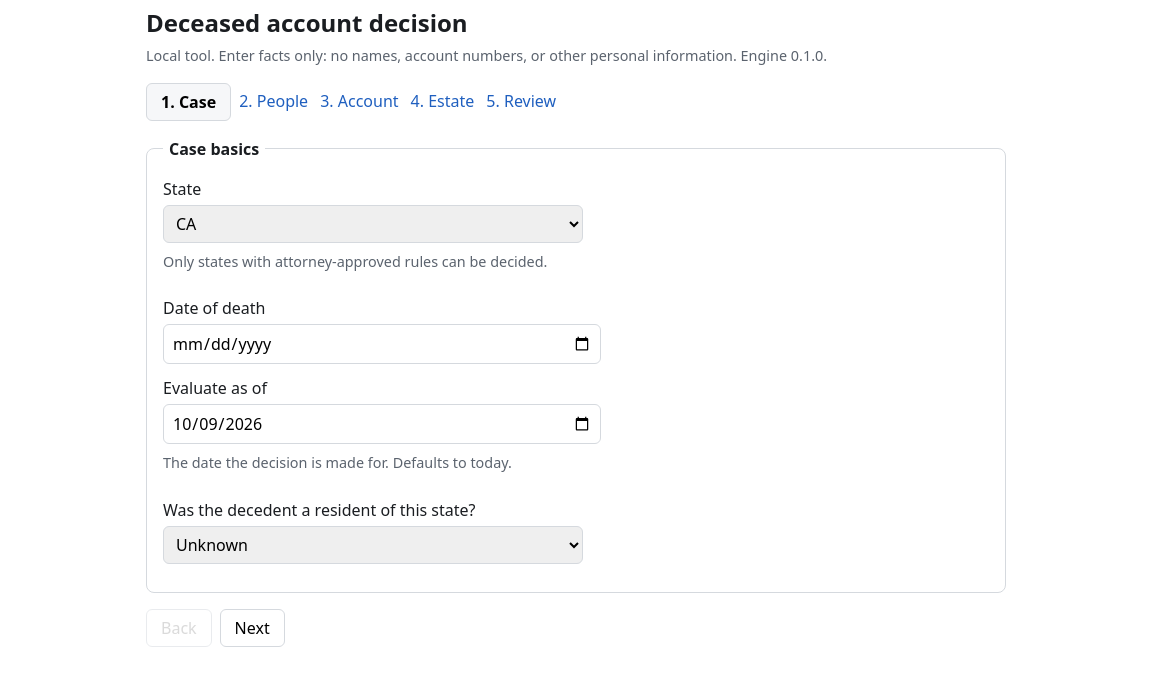
Test case: unknown policy and unreachable service are explained
What coordinates should you click on to do the following:
click the button "5. Review"
I would click on:
 (521, 101)
Its box is [482, 83, 560, 119].
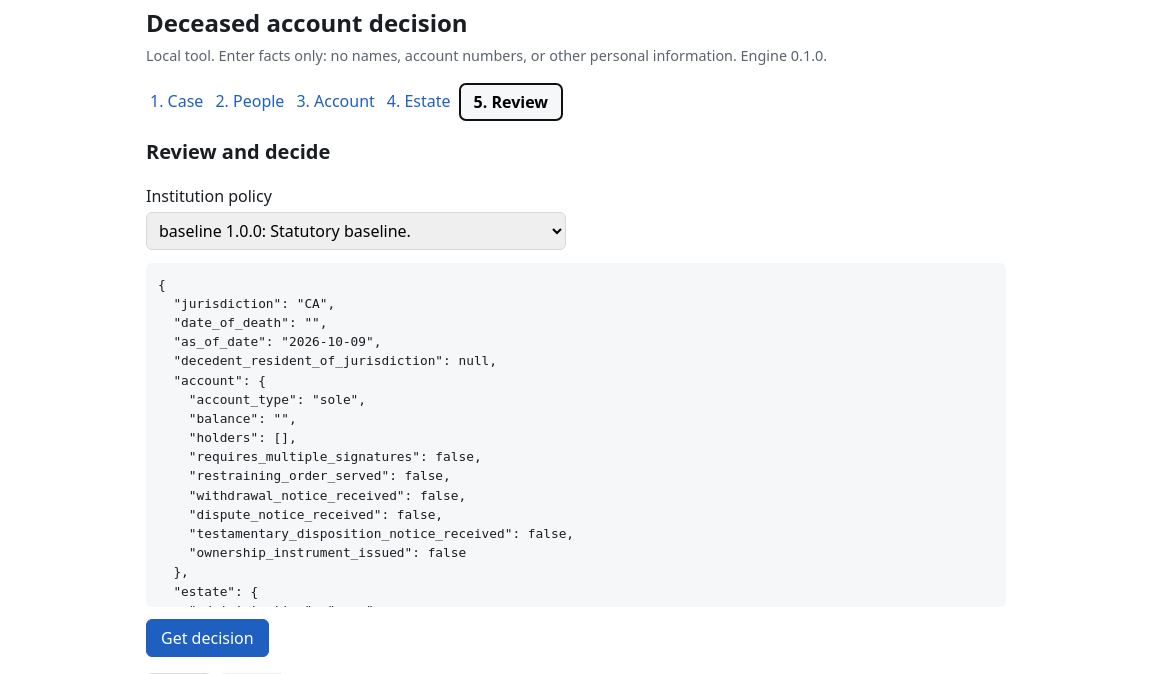
What coordinates should you click on to do the following:
click the button "Get decision"
I would click on:
 (207, 638)
Its box is [146, 619, 269, 657].
(page scrolled)
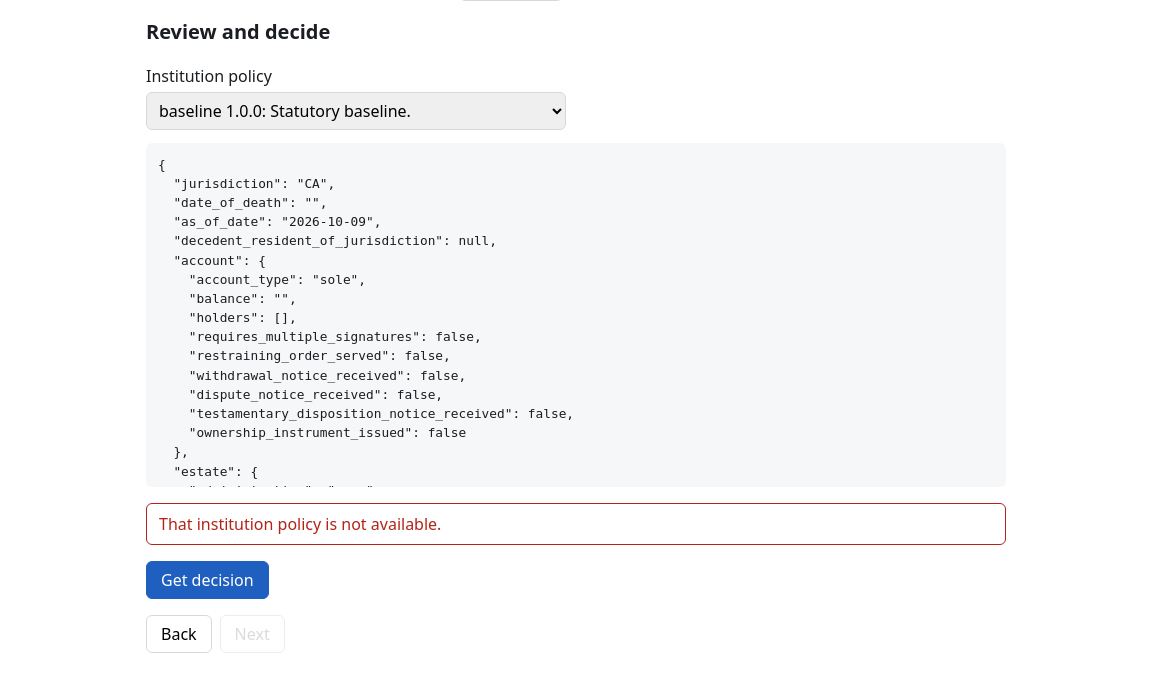
Expected: the text "That institution policy is not available." is shown, [146, 503, 1006, 545]
What coordinates should you click on to do the following:
click the button "Get decision"
I would click on:
 (207, 580)
Its box is [146, 561, 269, 599].
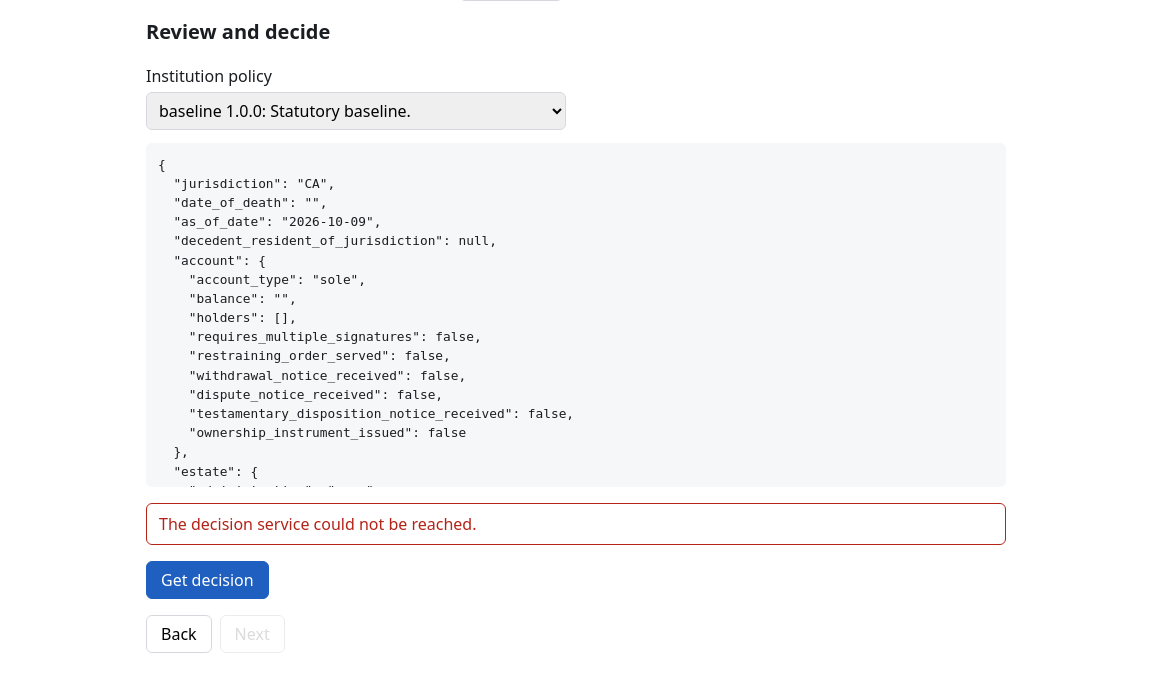
Expected: the text "The decision service could not be reached." is shown, [146, 503, 1006, 545]
